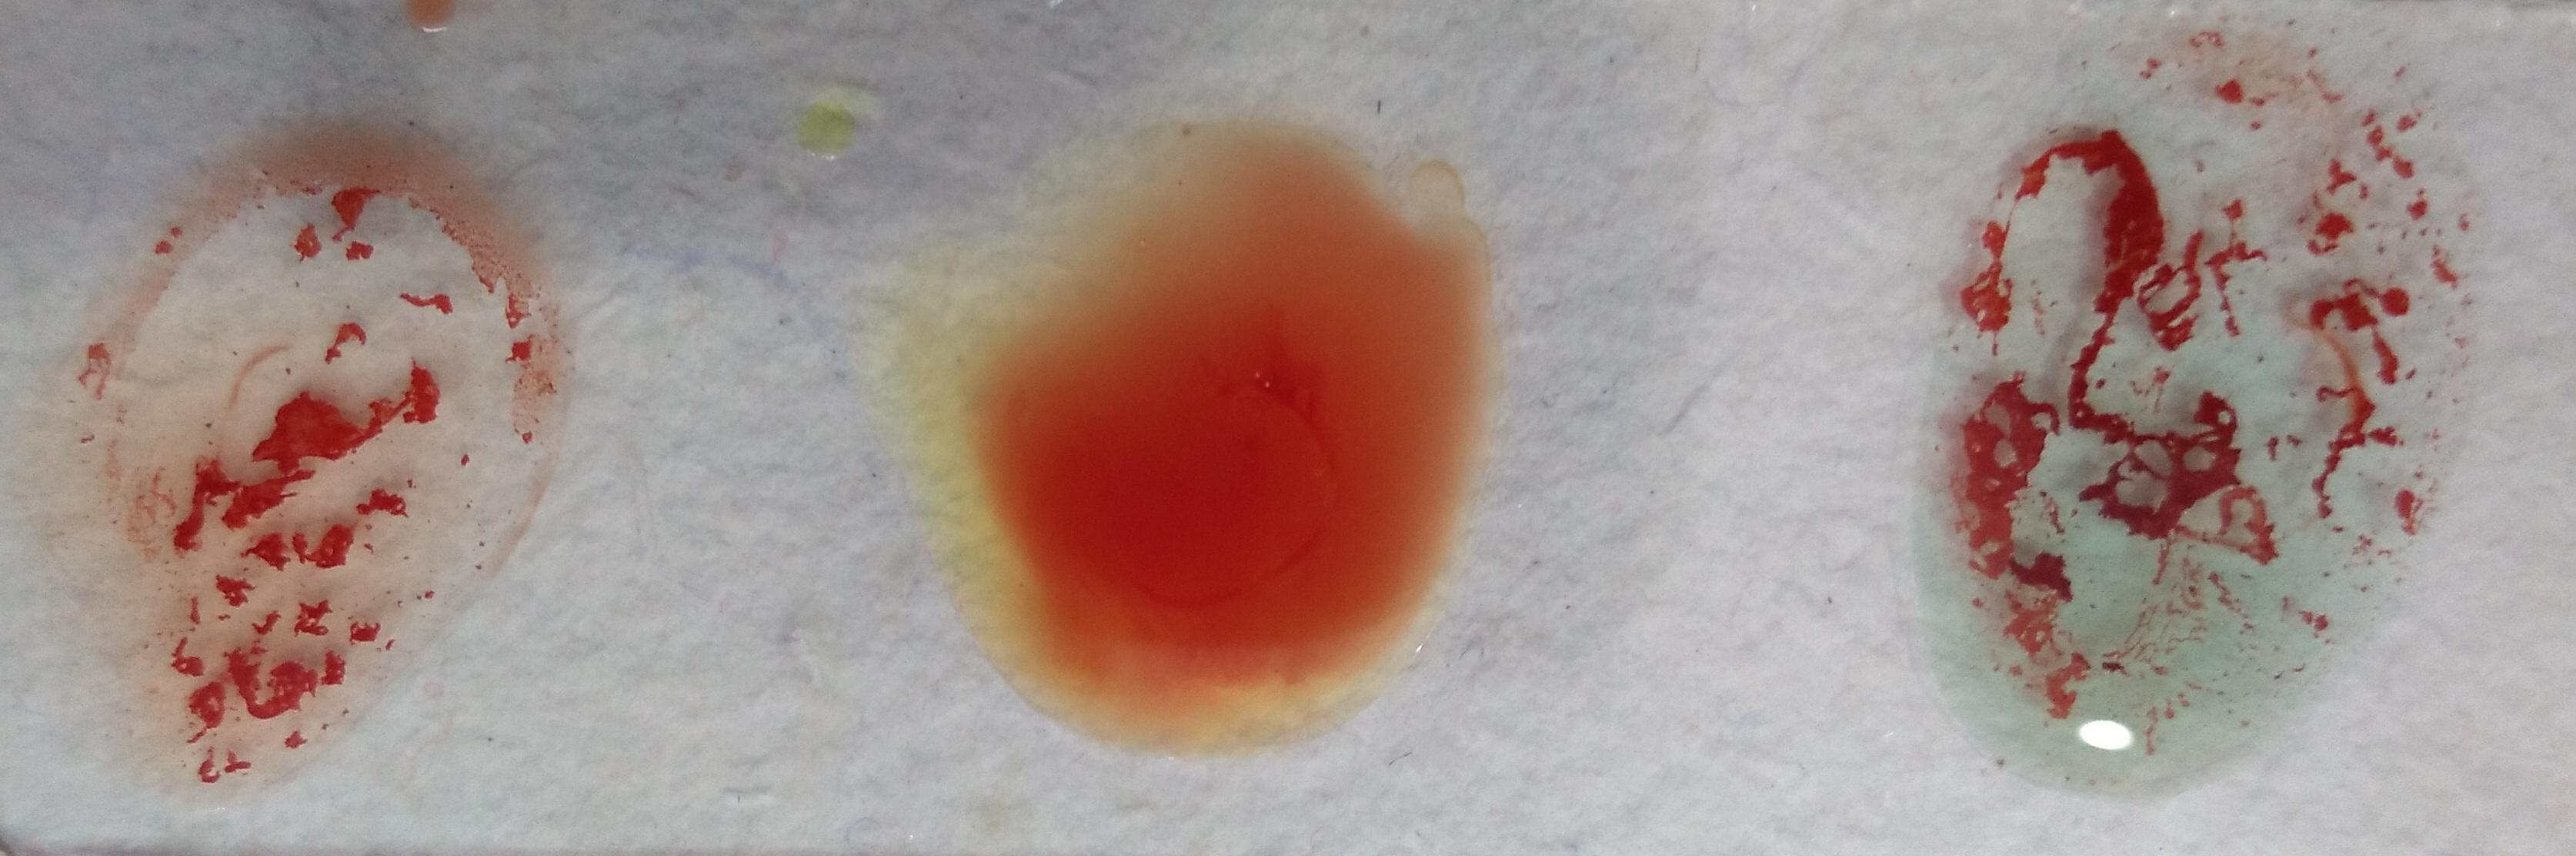A: (1901, 35, 2469, 794)
D: (49, 128, 575, 777)
